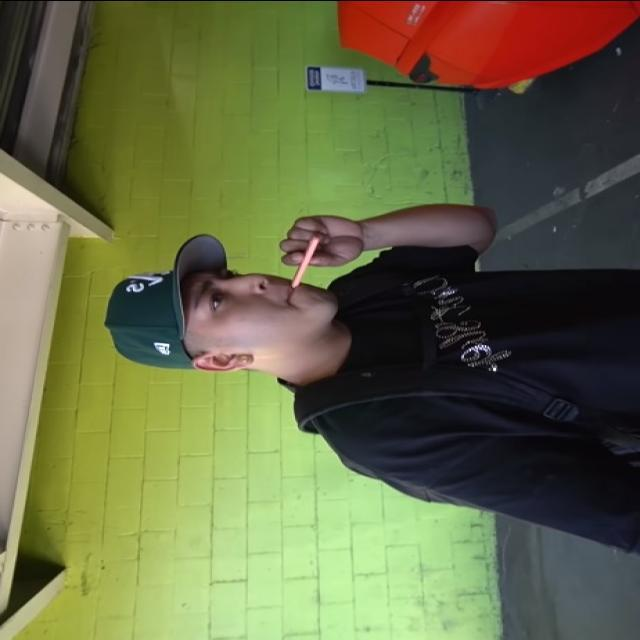Hazard: (290, 228, 330, 288)
